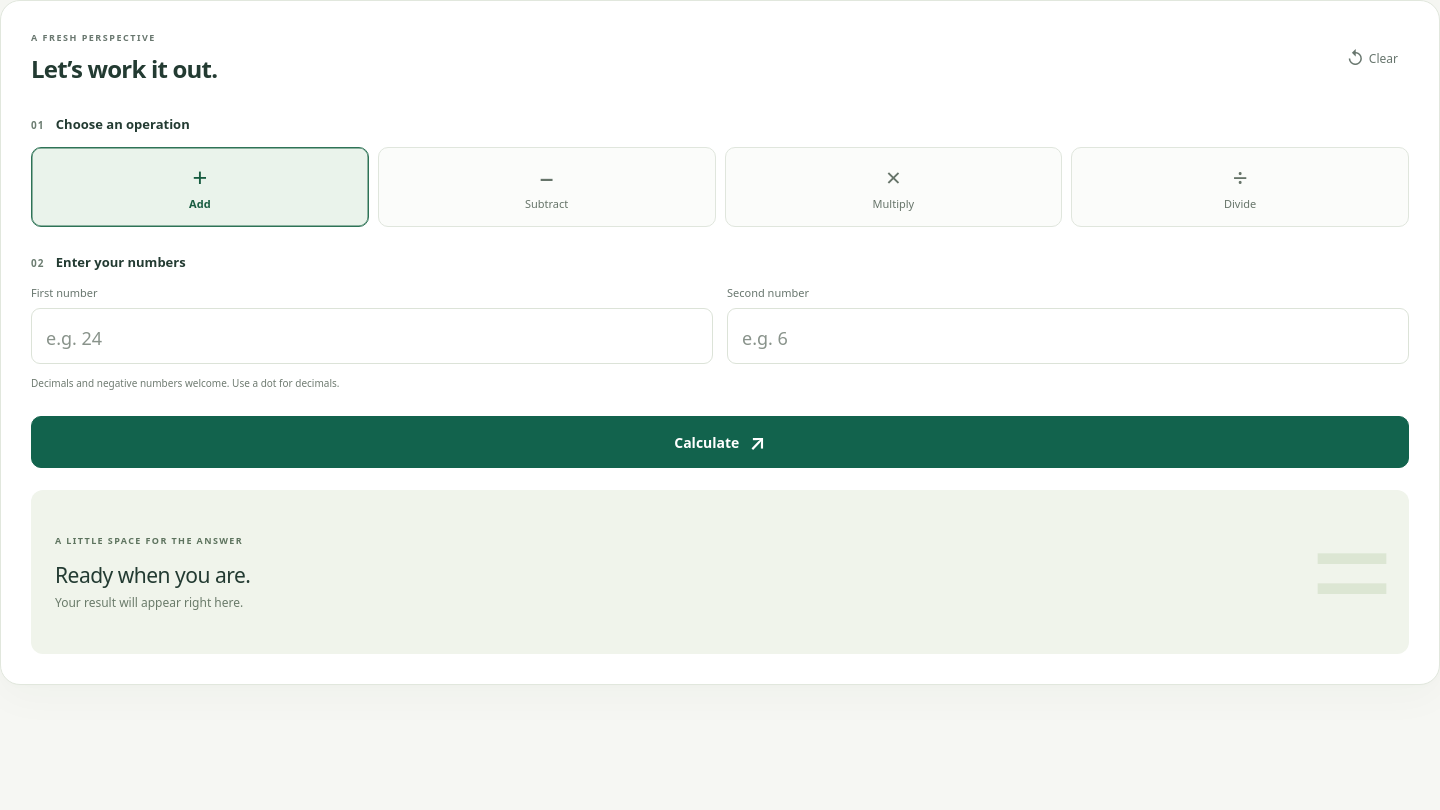
Test: calculator experience › sends the Subtract operation to the API and displays its result
Step 1. Type "10" into the field labelled "First number" → (372, 336), box [31,308,713,364]
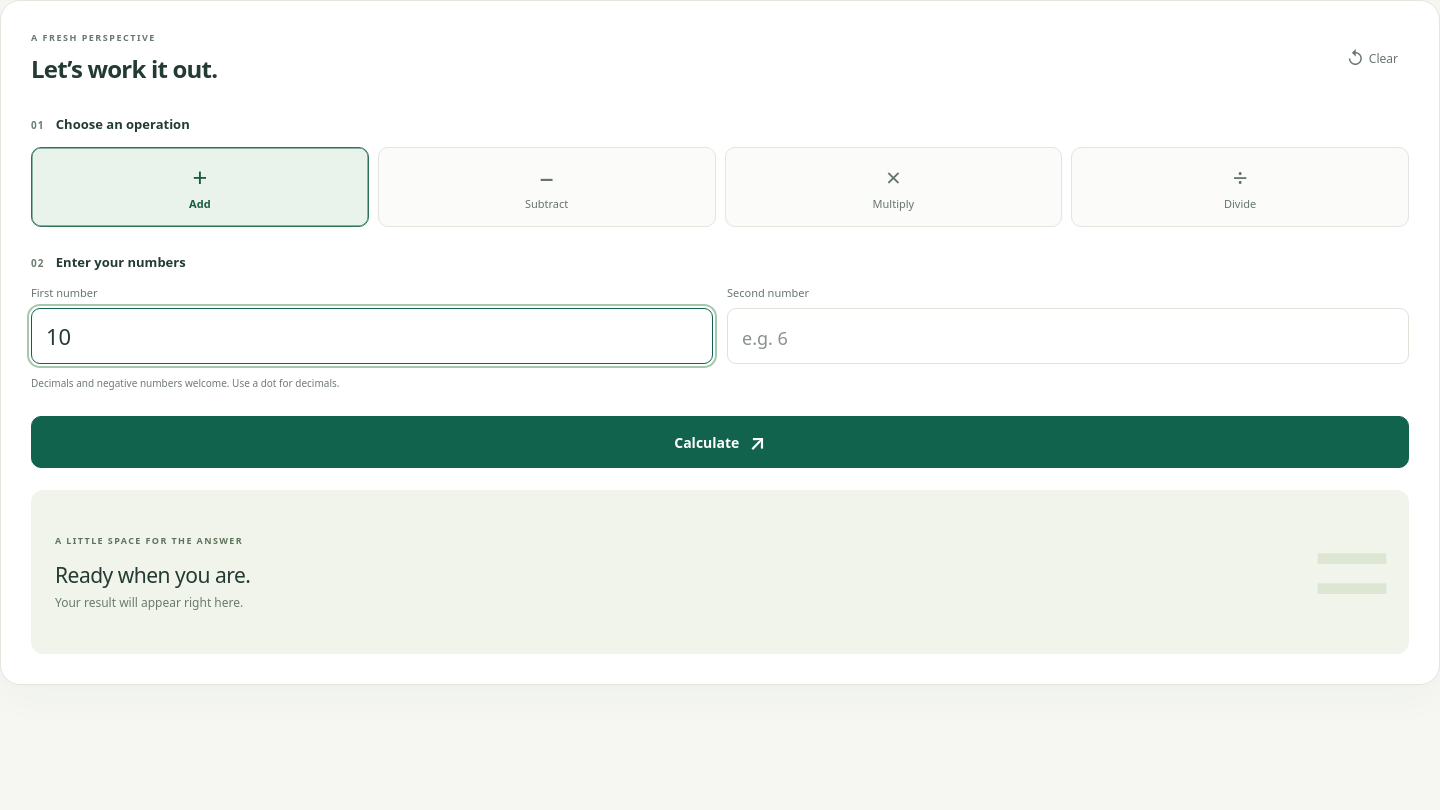
Step 2. Type "2" into the field labelled "Second number" → (1068, 336), box [727,308,1409,364]
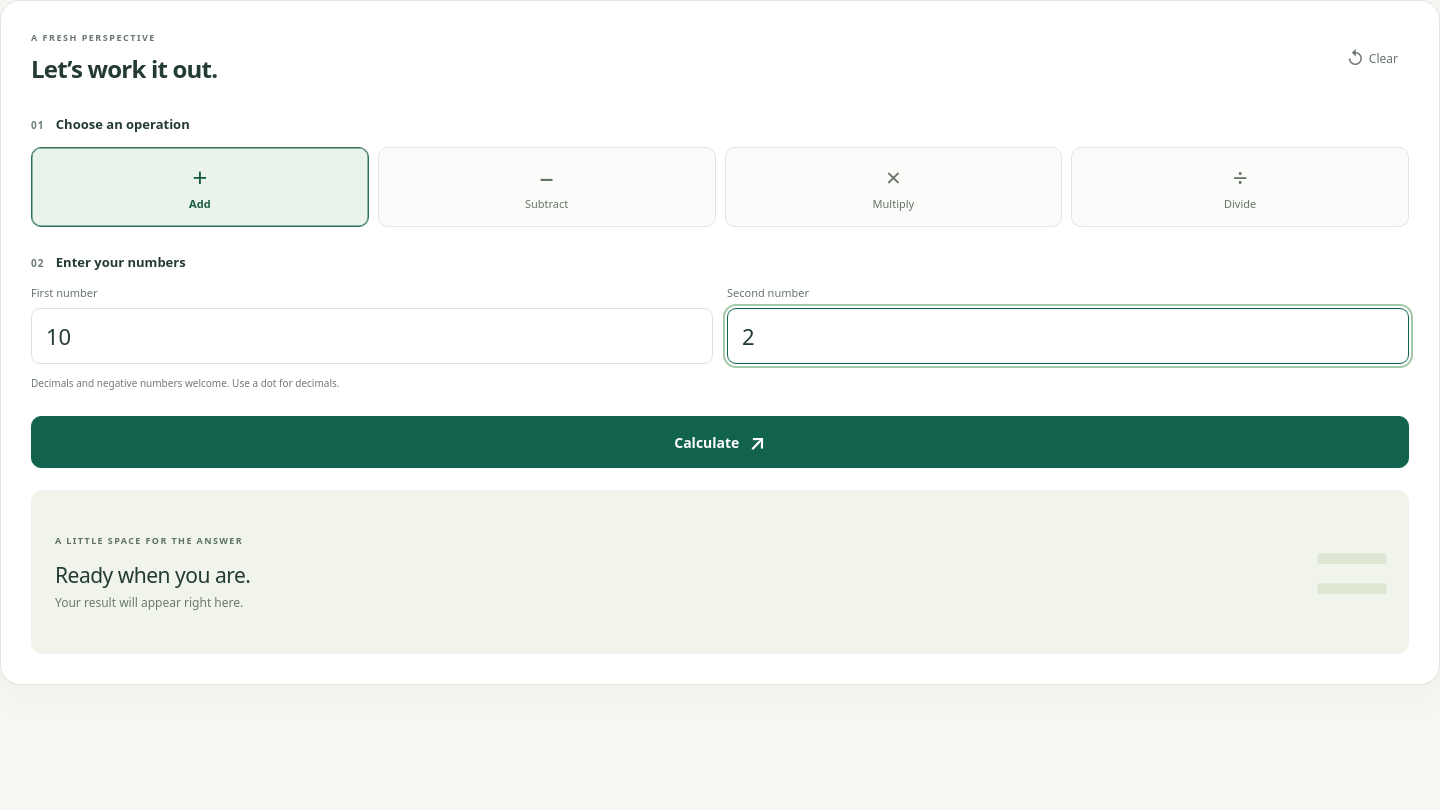
Step 3. Click the radio button labelled "Subtract" → (547, 187), box [378,147,716,227]
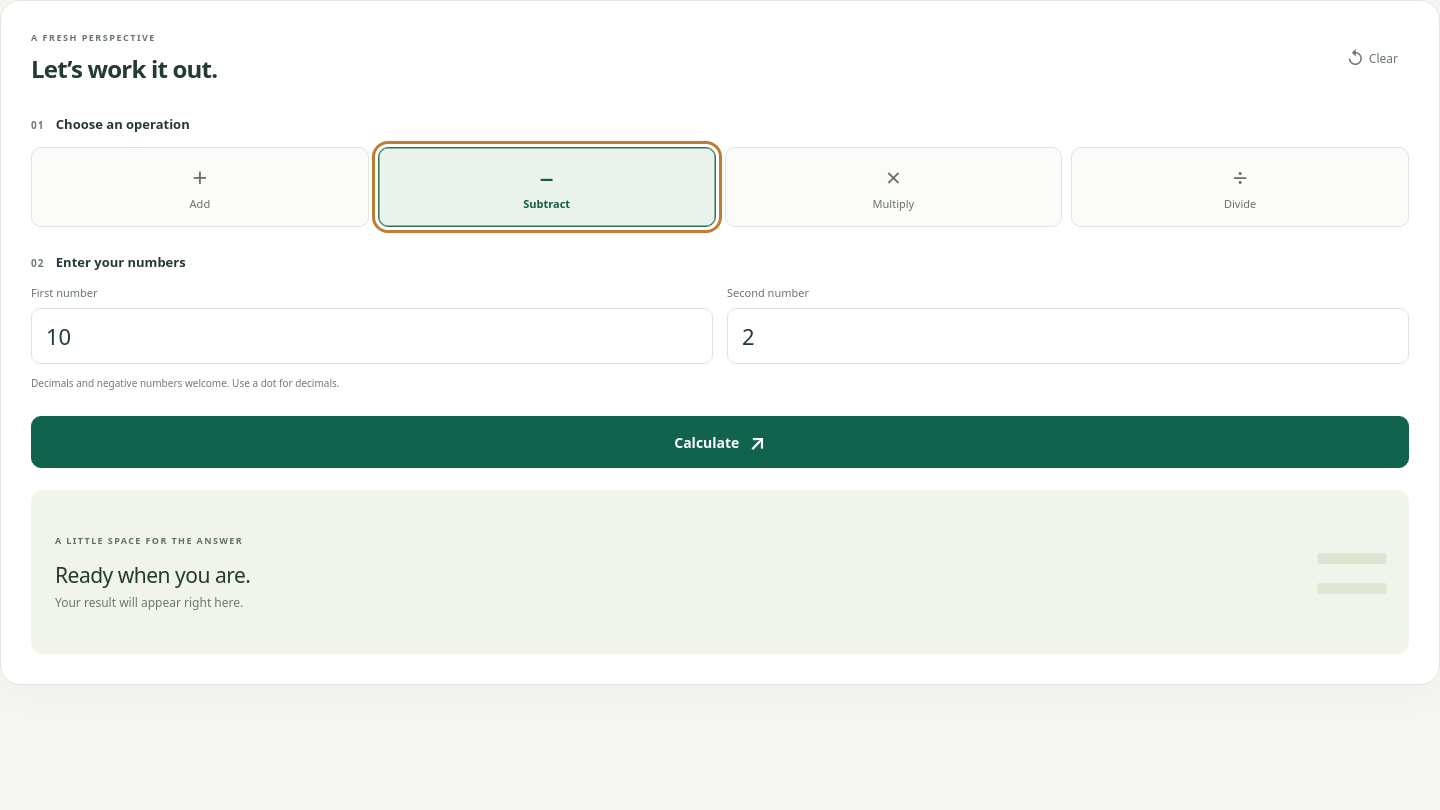
Step 4. Click the button "Calculate ↗" → (720, 442), box [31,416,1409,468]
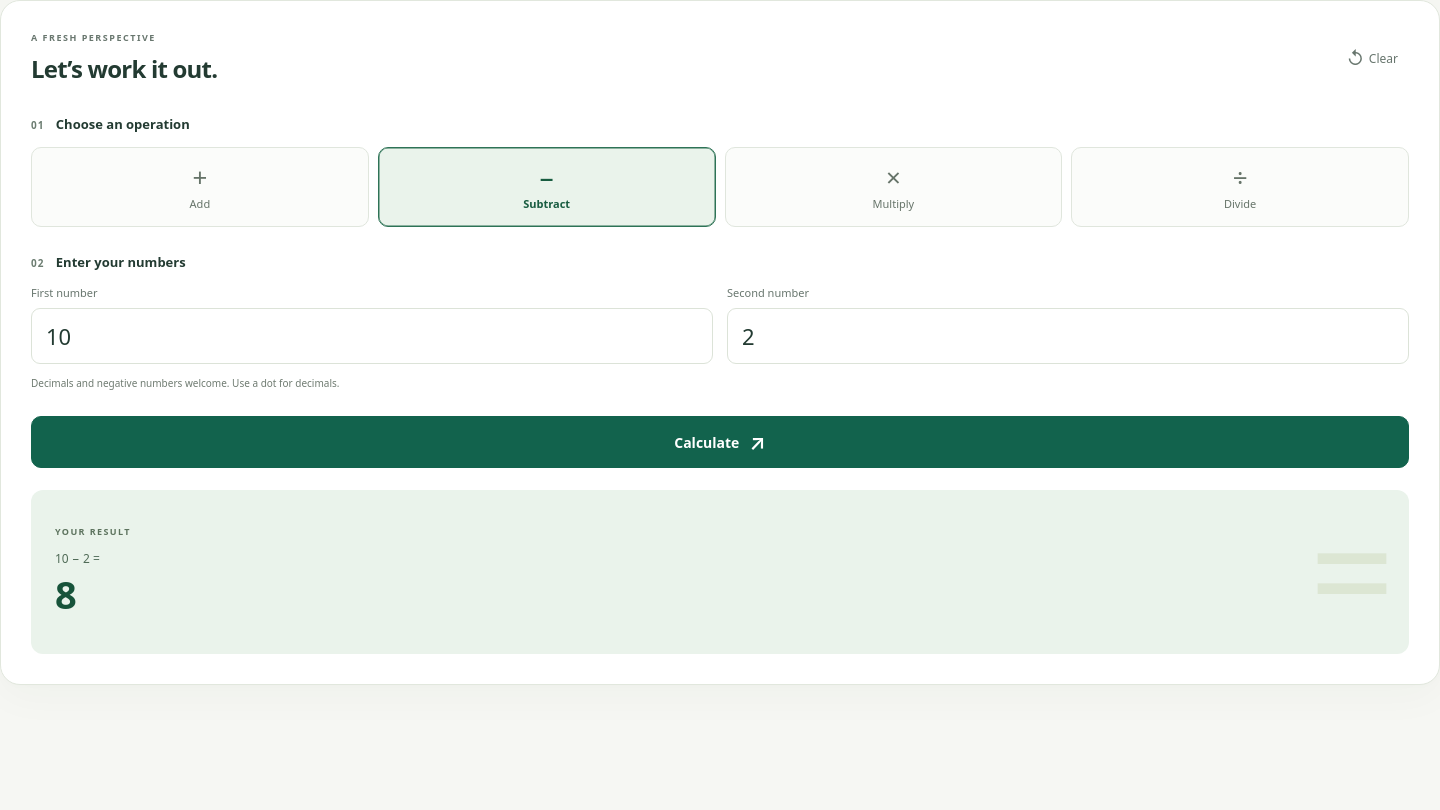
Check: the text "8" is shown, box [55,568,76,620]
